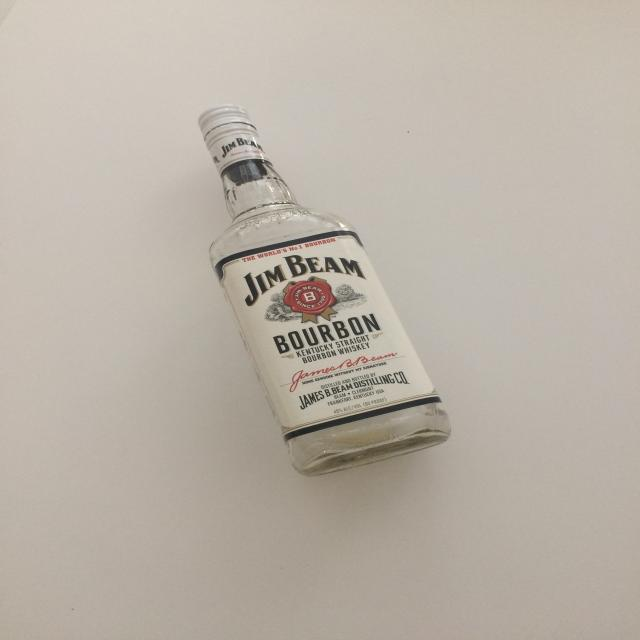glass: (196, 108, 454, 479)
